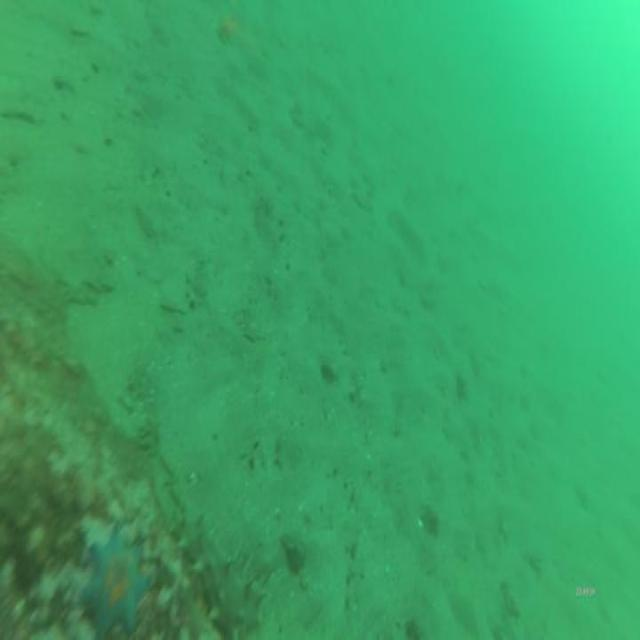holothurian: (169, 504, 268, 640)
starfish: (78, 516, 152, 640)
